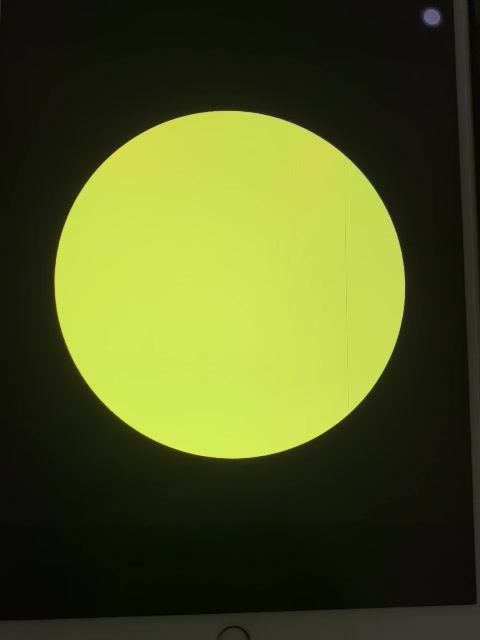left: (39, 100, 420, 474)
